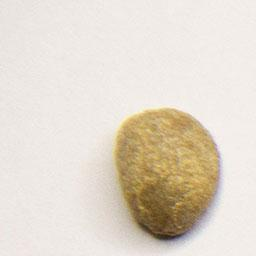defect: (110, 103, 225, 242)
